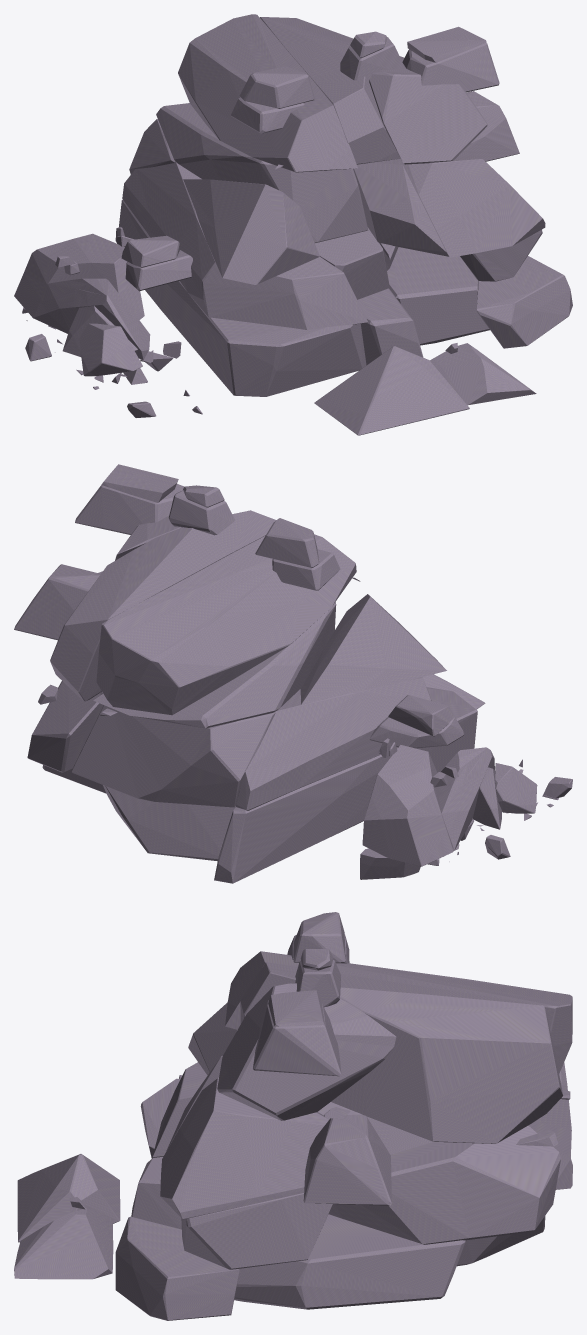
The model's file is A09_Massif_B_far.fbx.
3 renders of one model, top to bottom at view 1: azimuth 30°, elevation 25°; view 2: azimuth 150°, elevation 25°; view 3: azimuth 270°, elevation 25°, orthographic. The views are drawn at different scales.
Visible parts, largest first — view 1: A09B_1_4, A09B_1_15, A09B_1_0, A09B_1_10, A09B_1_11, A09B_1_13, A09B_1_buttress0_0, A09B_1_17, A09B_1_16, A09B_1_2, A09B_1_3, A09B_1_12 (+18 smaller); view 2: A09B_1_15, A09B_1_5, A09B_1_0, A09B_1_4, A09B_1_16, A09B_1_10, A09B_0_31, A09B_1_11, A09B_1_1, A09B_1_6, A09B_1_crag3_0, A09B_0_30 (+13 smaller); view 3: A09B_1_16, A09B_1_6, A09B_1_13, A09B_1_2, A09B_1_17, A09B_1_3, A09B_1_7, A09B_1_crag3_0, A09B_1_15, A09B_1_buttress1_0, A09B_1_buttress0_0, A09B_1_crag1_0 (+10 smaller).
Boxes of the visible parts, x1,y1,x2,y2 form: A09B_1_4: (122, 162, 367, 329); A09B_1_15: (178, 14, 357, 172); A09B_1_0: (117, 199, 366, 396); A09B_1_10: (183, 179, 319, 284); A09B_1_11: (156, 103, 368, 242); A09B_1_13: (408, 150, 545, 257); A09B_1_buttress0_0: (314, 346, 469, 435); A09B_1_17: (369, 56, 487, 164); A09B_1_16: (260, 17, 400, 164); A09B_1_2: (387, 247, 489, 345); A09B_1_3: (476, 256, 572, 348); A09B_1_12: (353, 158, 449, 256); A09B_1_15: (96, 534, 356, 715); A09B_1_5: (71, 705, 275, 807); A09B_1_0: (214, 687, 477, 883); A09B_1_4: (236, 677, 431, 810); A09B_1_16: (50, 510, 276, 701); A09B_1_10: (300, 594, 446, 704); A09B_0_31: (362, 745, 453, 866); A09B_1_11: (93, 602, 336, 728); A09B_1_1: (103, 785, 235, 861); A09B_1_6: (27, 681, 103, 772); A09B_1_crag3_0: (14, 564, 97, 640); A09B_0_30: (437, 747, 494, 849); A09B_1_16: (240, 962, 562, 1143); A09B_1_6: (328, 1125, 560, 1244); A09B_1_13: (160, 1077, 328, 1219); A09B_1_2: (181, 1214, 465, 1309); A09B_1_17: (217, 983, 396, 1120); A09B_1_3: (115, 1216, 239, 1320); A09B_1_7: (181, 1193, 332, 1269); A09B_1_crag3_0: (303, 1115, 391, 1205); A09B_1_15: (225, 951, 572, 1073); A09B_1_buttress1_0: (14, 1208, 113, 1279); A09B_1_buttress0_0: (17, 1154, 120, 1242); A09B_1_crag1_0: (253, 1000, 341, 1076).
Size of the model in its own units: 617 by 341 by 560.
